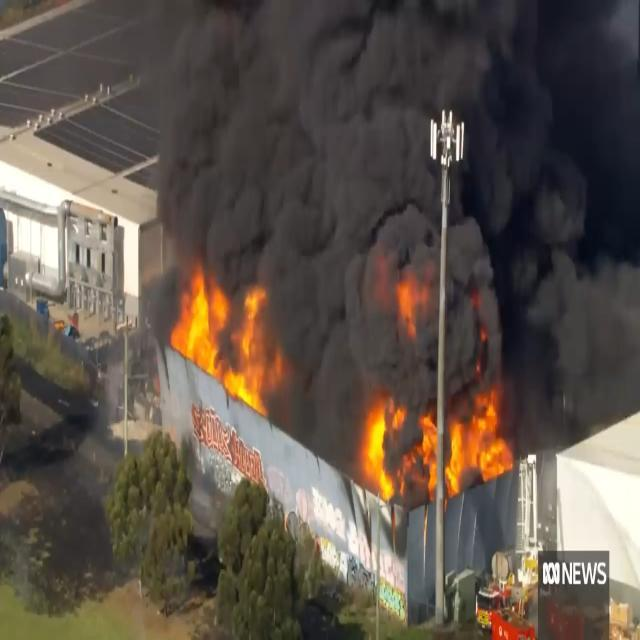fire: (355, 254, 510, 497), (166, 261, 286, 418)
